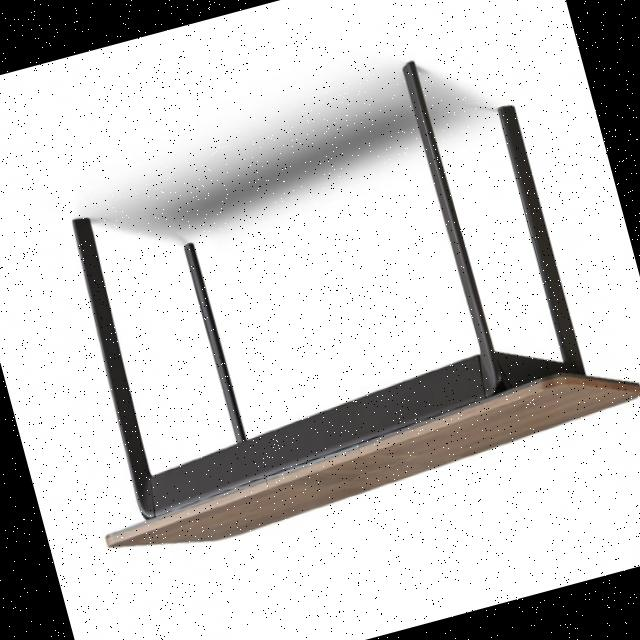Table: (0, 3, 640, 595)
